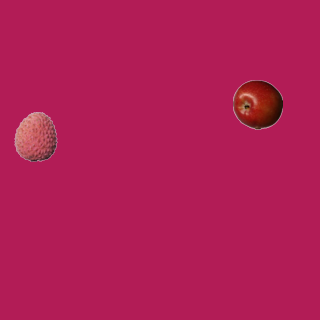Apple Braeburn: (232, 79, 282, 129)
Lychee: (10, 111, 60, 161)
